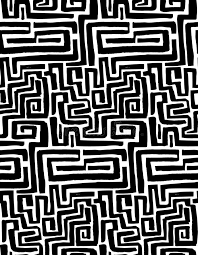maze: (1, 1, 198, 255)
